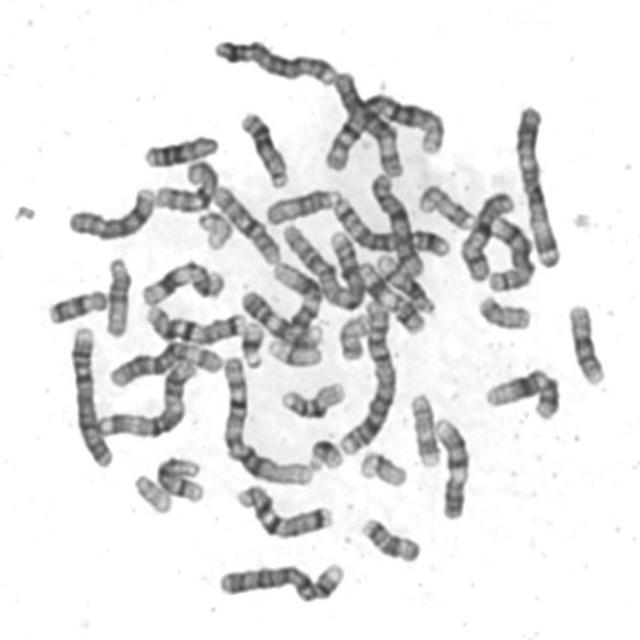A1: (217, 348, 316, 488), (321, 86, 450, 173)
A2: (335, 295, 400, 457), (277, 218, 369, 311)
A3: (510, 97, 566, 269), (92, 352, 200, 439)
B4: (66, 321, 116, 469), (215, 556, 350, 604)
B5: (328, 190, 452, 260), (209, 32, 340, 88)
C10: (209, 178, 284, 267), (149, 153, 222, 215)
C11: (354, 255, 430, 338), (137, 255, 229, 308)
C12: (481, 362, 565, 423), (268, 255, 326, 342)
C6: (330, 65, 408, 181), (105, 334, 227, 390)
C7: (232, 477, 338, 540), (140, 298, 250, 346)
C8: (63, 180, 159, 243), (483, 208, 537, 294)
C9: (237, 284, 327, 351), (429, 412, 473, 521)
D13: (235, 104, 293, 190), (140, 128, 222, 170)
D14: (373, 248, 440, 317), (152, 450, 208, 506)
D15: (262, 182, 342, 227), (100, 250, 135, 340)
E16: (564, 298, 611, 388), (277, 374, 350, 421)
E17: (415, 184, 477, 236), (406, 388, 445, 470)
E18: (358, 512, 425, 566), (44, 283, 112, 326)
F19: (356, 444, 412, 488), (264, 333, 327, 369)
F20: (474, 290, 536, 332), (334, 307, 374, 362)
G21: (305, 432, 347, 473), (237, 315, 268, 369)
G22: (130, 468, 177, 516), (193, 205, 236, 252)
X: (365, 167, 428, 279), (457, 186, 517, 283)
